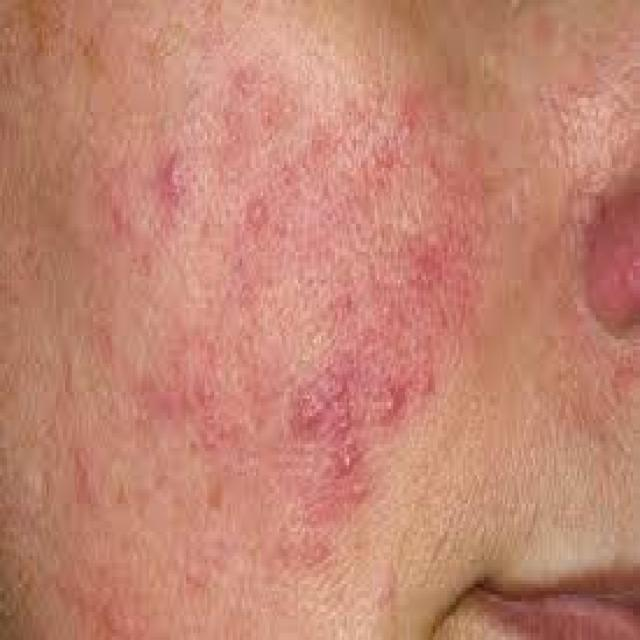Rosacea: (73, 41, 456, 542)
